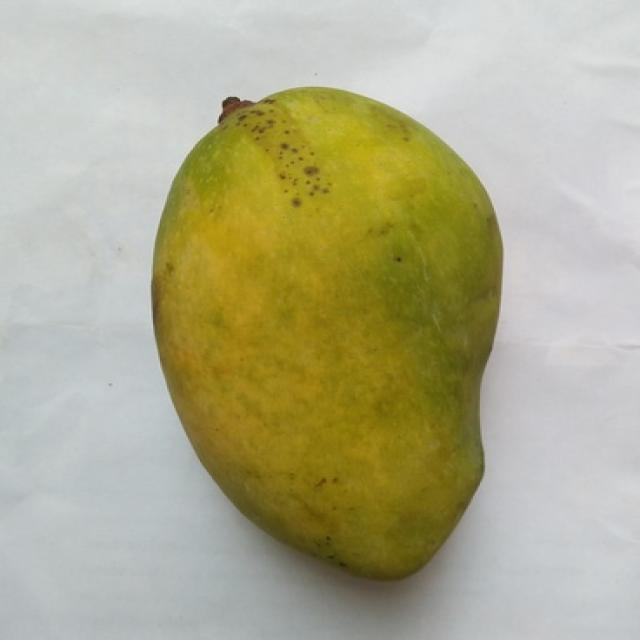Mango: (153, 87, 501, 576)
